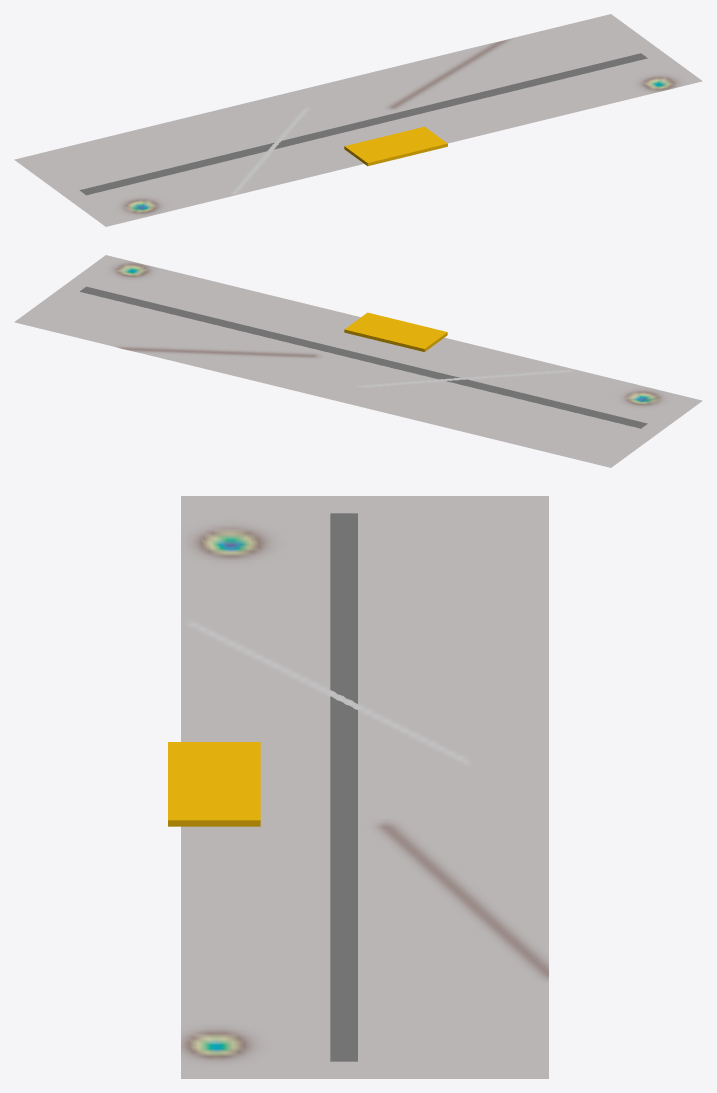
The model's file is final_airport_design.glb.
3 views of the same model, one above another, from view 1: azimuth 30°, elevation 25°; view 2: azimuth 150°, elevation 25°; view 3: azimuth 270°, elevation 25° (orthographic). The views are drawn at different scales.
Parts seen in each view (by area): view 1: world; view 2: world; view 3: world.
Part boxes in pixels (x1=…): world: x1=14, y1=14, x2=702, y2=226; world: x1=14, y1=255, x2=702, y2=467; world: x1=168, y1=496, x2=548, y2=1078.
Size of the model in its own units: 2977 by 22.31 by 822.
